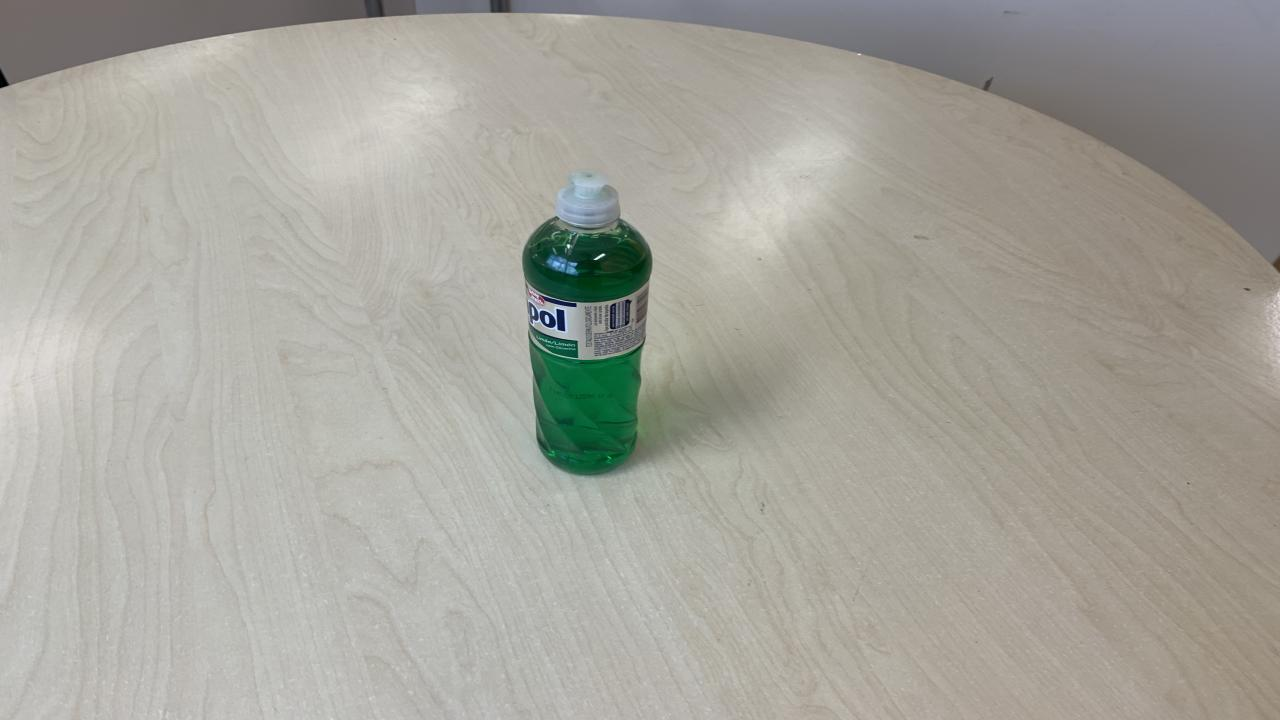Detergent-Cleanup_Items: (520, 174, 655, 478)
